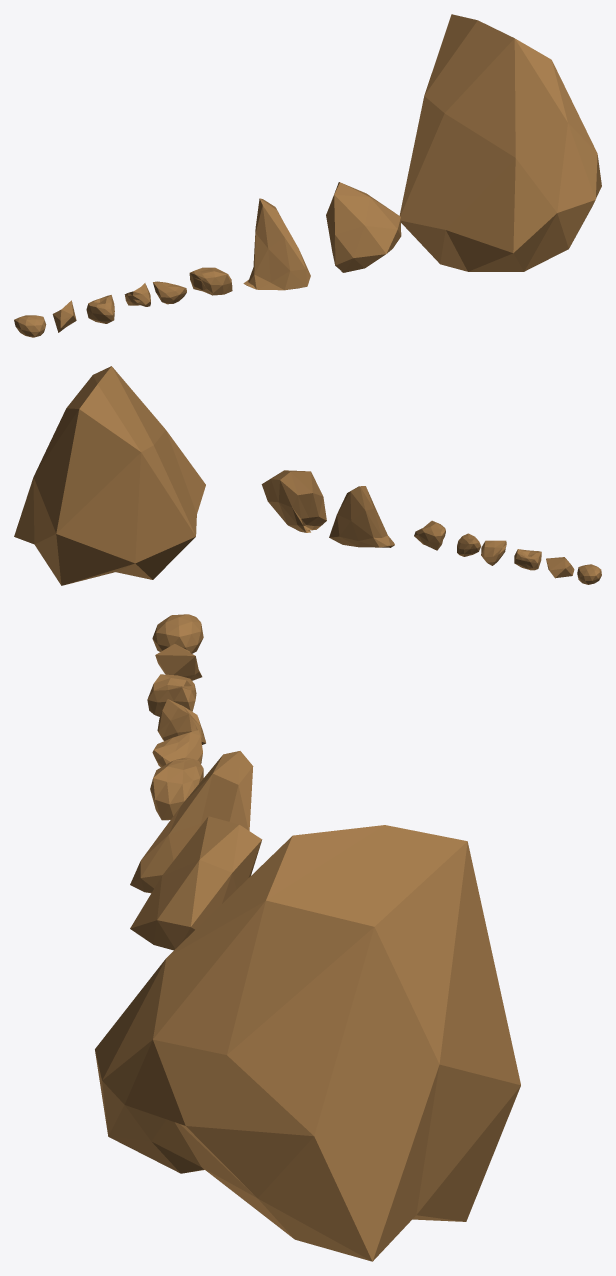
File: Rocks_V1.FBX
3 renders of one model, top to bottom at view 1: azimuth 30°, elevation 25°; view 2: azimuth 150°, elevation 25°; view 3: azimuth 270°, elevation 25°, orthographic. The views are drawn at different scales.
Visible parts, largest first — view 1: GeoSphere009, GeoSphere008, GeoSphere007, GeoSphere006, GeoSphere003, GeoSphere001, GeoSphere005, GeoSphere002, GeoSphere004; view 2: GeoSphere009, GeoSphere008, GeoSphere007, GeoSphere006, GeoSphere004, GeoSphere003, GeoSphere002, GeoSphere005, GeoSphere001; view 3: GeoSphere009, GeoSphere008, GeoSphere007, GeoSphere006, GeoSphere001, GeoSphere003, GeoSphere004, GeoSphere005, GeoSphere002.
Part boxes in pixels (x1,y1,x2,y2): GeoSphere009: [399, 14, 601, 271]; GeoSphere008: [326, 182, 401, 272]; GeoSphere007: [243, 198, 310, 290]; GeoSphere006: [189, 267, 232, 295]; GeoSphere003: [86, 295, 114, 323]; GeoSphere001: [14, 315, 46, 337]; GeoSphere005: [153, 281, 186, 304]; GeoSphere002: [52, 300, 76, 332]; GeoSphere004: [124, 283, 150, 306]; GeoSphere009: [14, 366, 205, 585]; GeoSphere008: [261, 470, 326, 532]; GeoSphere007: [329, 486, 394, 547]; GeoSphere006: [414, 520, 445, 550]; GeoSphere004: [481, 540, 506, 565]; GeoSphere003: [514, 549, 541, 570]; GeoSphere002: [546, 557, 574, 578]; GeoSphere005: [457, 533, 481, 556]; GeoSphere001: [577, 564, 601, 584]; GeoSphere009: [95, 825, 520, 1261]; GeoSphere008: [130, 816, 262, 950]; GeoSphere007: [130, 751, 253, 893]; GeoSphere006: [150, 758, 203, 820]; GeoSphere001: [152, 614, 203, 653]; GeoSphere003: [147, 674, 196, 716]; GeoSphere004: [157, 699, 205, 744]; GeoSphere005: [152, 730, 202, 767]; GeoSphere002: [155, 644, 202, 680].
Bounding box in the file's own units: 1737 × 596 × 596.
